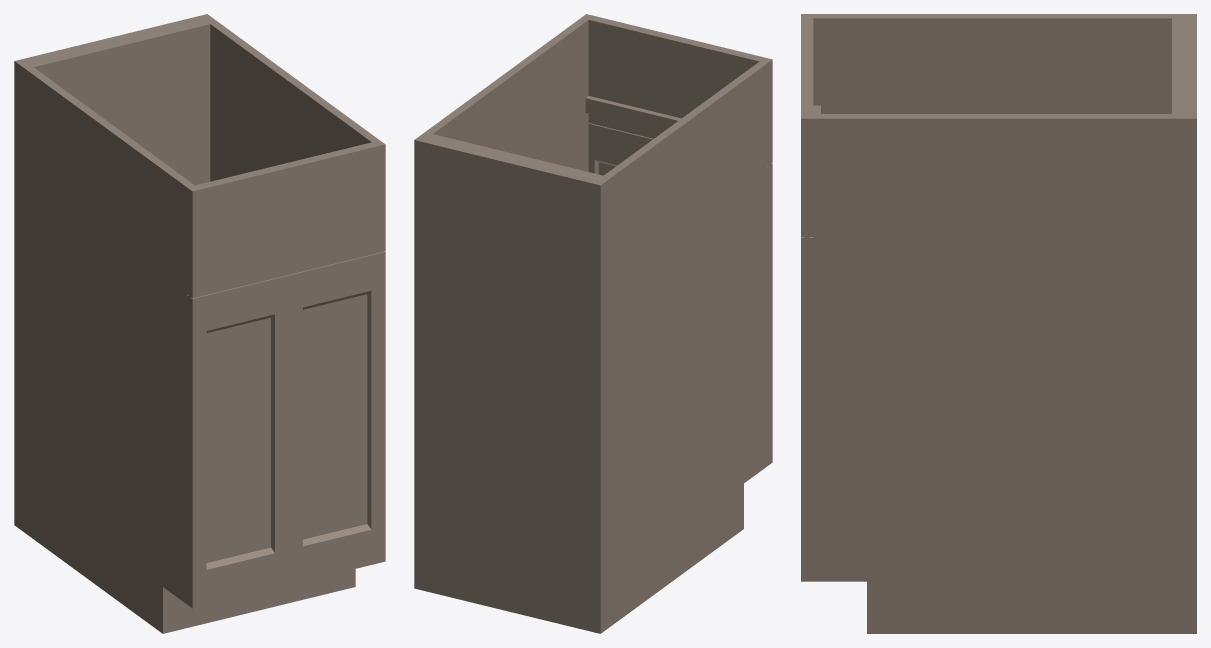
File: Sink-Base-Cabinet-Double-Door-False-Drawer_std_001_W15in.glb
3 views of the same model, side by side, from view 1: azimuth 30°, elevation 25°; view 2: azimuth 150°, elevation 25°; view 3: azimuth 270°, elevation 25° (orthographic). The views are drawn at different scales.
Visible parts, largest first — view 1: Sink-Base-Cabinet-Double-Door-False-Drawer.std.001_W15in; view 2: Sink-Base-Cabinet-Double-Door-False-Drawer.std.001_W15in; view 3: Sink-Base-Cabinet-Double-Door-False-Drawer.std.001_W15in.
Boxes of the visible parts, x1,y1,x2,y2 form: Sink-Base-Cabinet-Double-Door-False-Drawer.std.001_W15in: (14, 14, 385, 633); Sink-Base-Cabinet-Double-Door-False-Drawer.std.001_W15in: (414, 14, 772, 633); Sink-Base-Cabinet-Double-Door-False-Drawer.std.001_W15in: (801, 14, 1196, 633).
Size of the model in its own units: 0.381 by 0.8763 by 0.6096.
